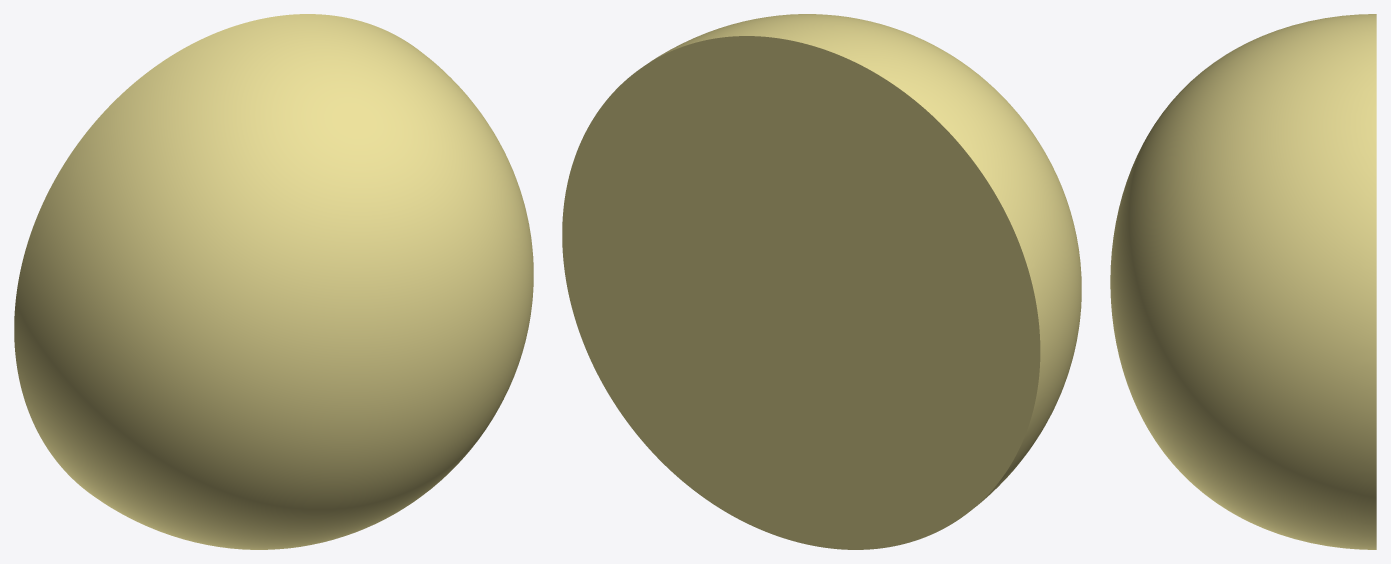
3 renders of one model, left to right at view 1: azimuth 30°, elevation 25°; view 2: azimuth 150°, elevation 25°; view 3: azimuth 270°, elevation 25°, orthographic. The views are drawn at different scales.
Bounding box in the file's own units: 0.0476 × 0.0476 × 0.0236.
